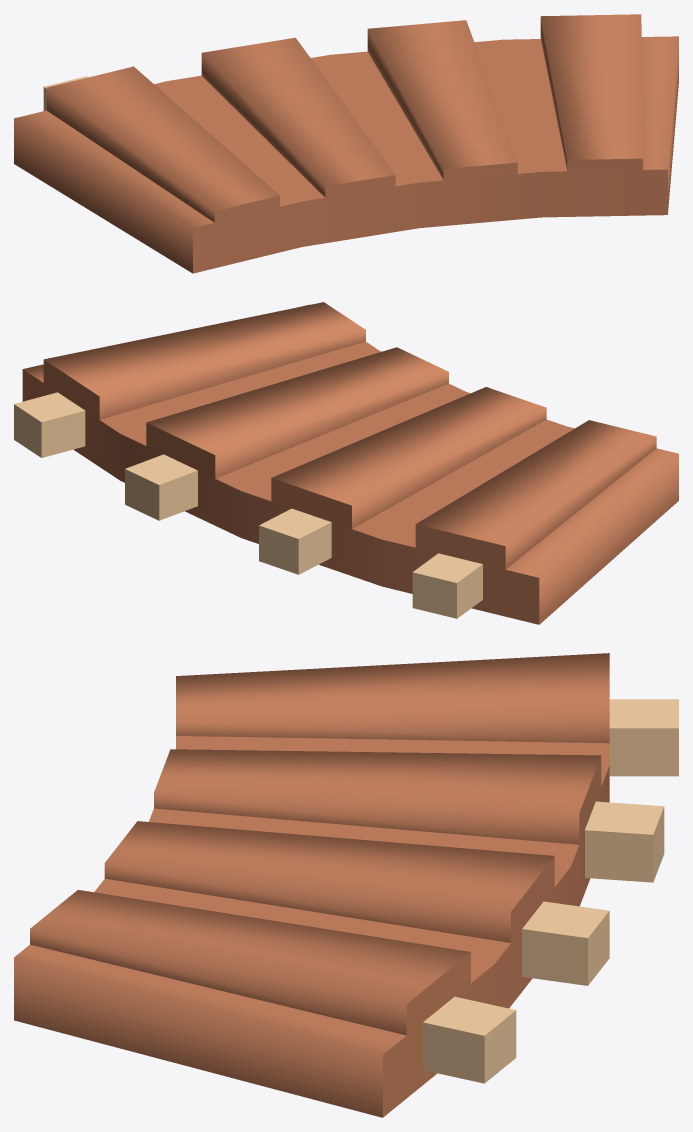
File: Meat Ribs.glb
The picture shows the model from 3 angles, top to bottom: view 1: azimuth 30°, elevation 25°; view 2: azimuth 150°, elevation 25°; view 3: azimuth 270°, elevation 25°; orthographic projection. The views are drawn at different scales.
Parts seen in each view (by area): view 1: Meat Ribs; view 2: Meat Ribs; view 3: Meat Ribs.
Part boxes in pixels (x1,y1,x2,y2): Meat Ribs: (14,14,678,273); Meat Ribs: (14,302,678,624); Meat Ribs: (14,653,678,1117).
Size of the model in its own units: 0.2401 by 0.0269 by 0.1719.
